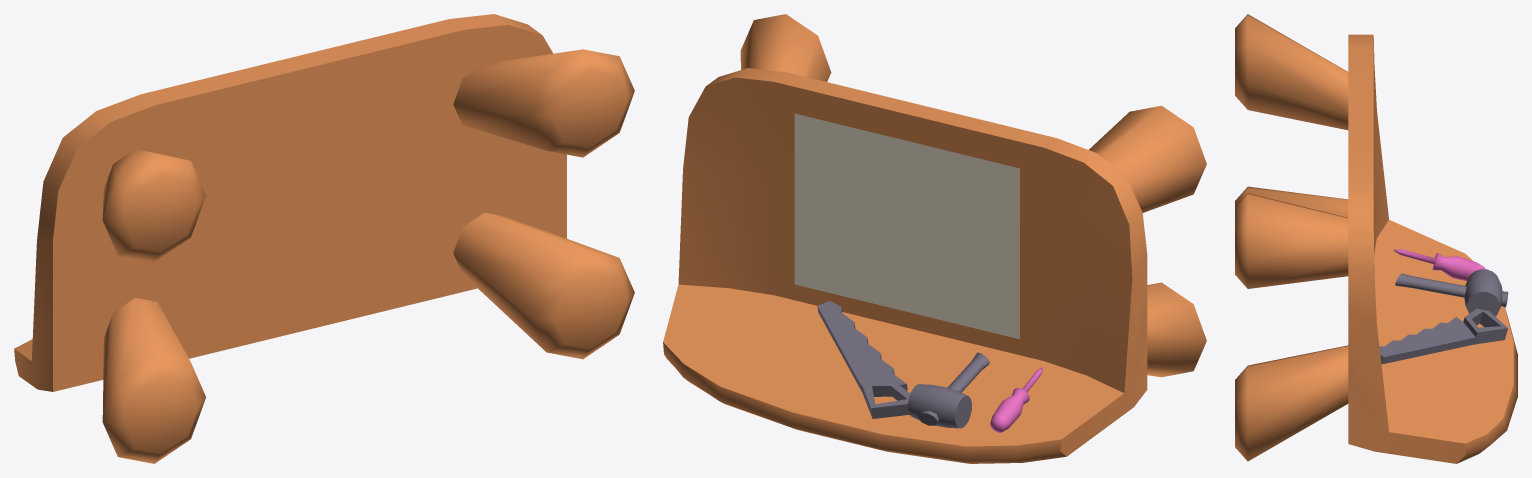
The model's file is WorkBench.fbx.
3 views of the same model, side by side, from view 1: azimuth 30°, elevation 25°; view 2: azimuth 150°, elevation 25°; view 3: azimuth 270°, elevation 25° (orthographic). The views are drawn at different scales.
Parts seen in each view (by area): view 1: Workbench; view 2: Workbench; view 3: Workbench.
Boxes of the visible parts, left/top/right/bottom form: Workbench: left=14, top=14, right=634, bottom=463; Workbench: left=663, top=14, right=1206, bottom=463; Workbench: left=1235, top=14, right=1517, bottom=463.
Bounding box in the file's own units: 414 × 242 × 223.
